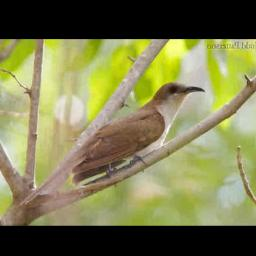Cuckoo: (72, 82, 209, 187)
